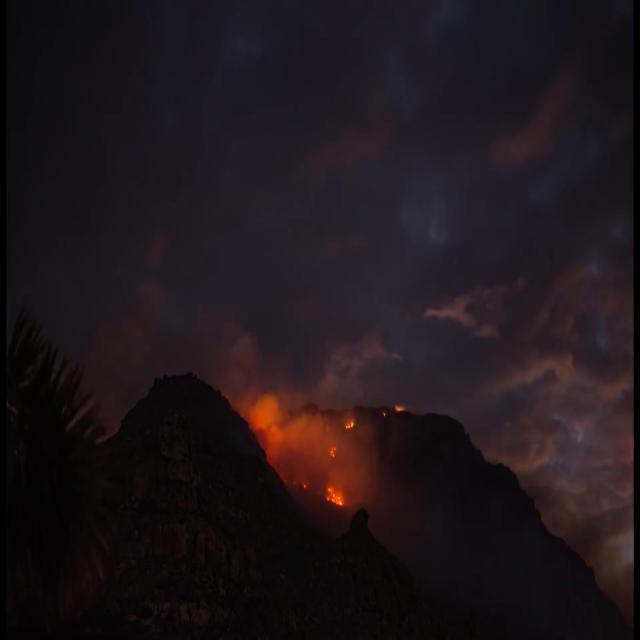Fire: (325, 486, 343, 506), (330, 444, 338, 459), (345, 419, 355, 429), (394, 404, 404, 412)
Smoke: (224, 358, 385, 526)
